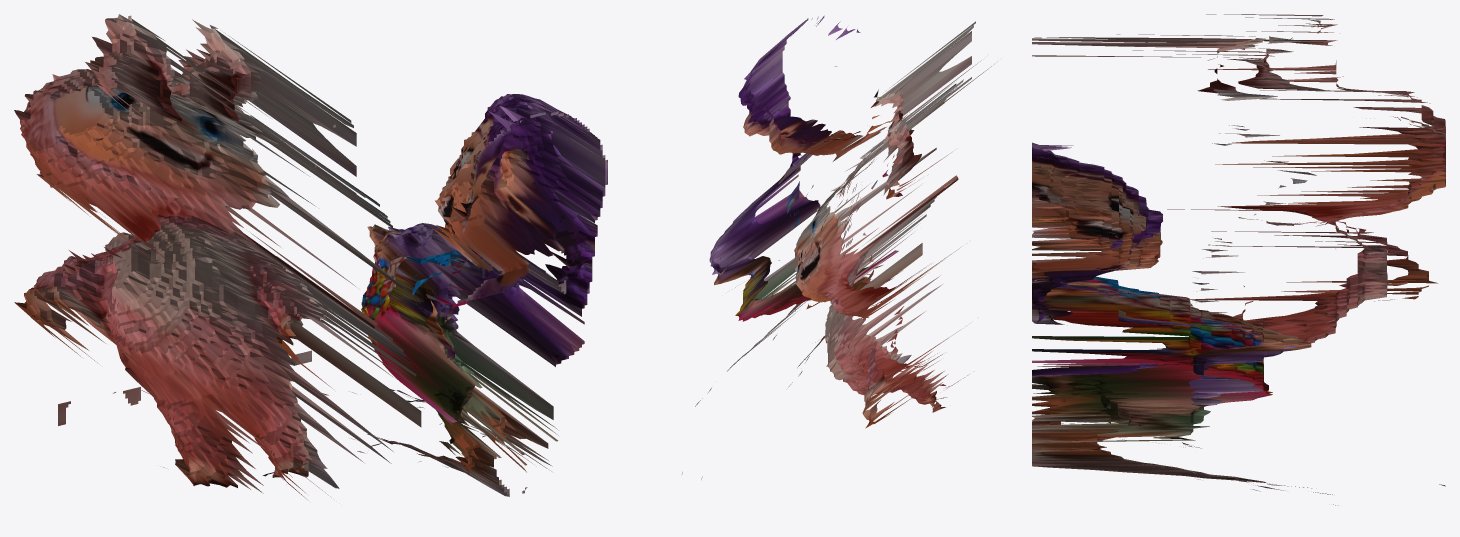
Rendered from frame_00093.glb.
3 renders of one model, left to right at view 1: azimuth 30°, elevation 25°; view 2: azimuth 150°, elevation 25°; view 3: azimuth 270°, elevation 25°, orthographic. The views are drawn at different scales.
Parts seen in each view (by area): view 1: geometry_0; view 2: geometry_0; view 3: geometry_0.
Part boxes in pixels (box(x1,y1,x2,y2)): geometry_0: box(14, 14, 607, 499); geometry_0: box(682, 15, 994, 479); geometry_0: box(1032, 14, 1445, 505).
Bounding box in the file's own units: 0.1367 × 0.1736 × 0.16.
1 material, 1 textured.
